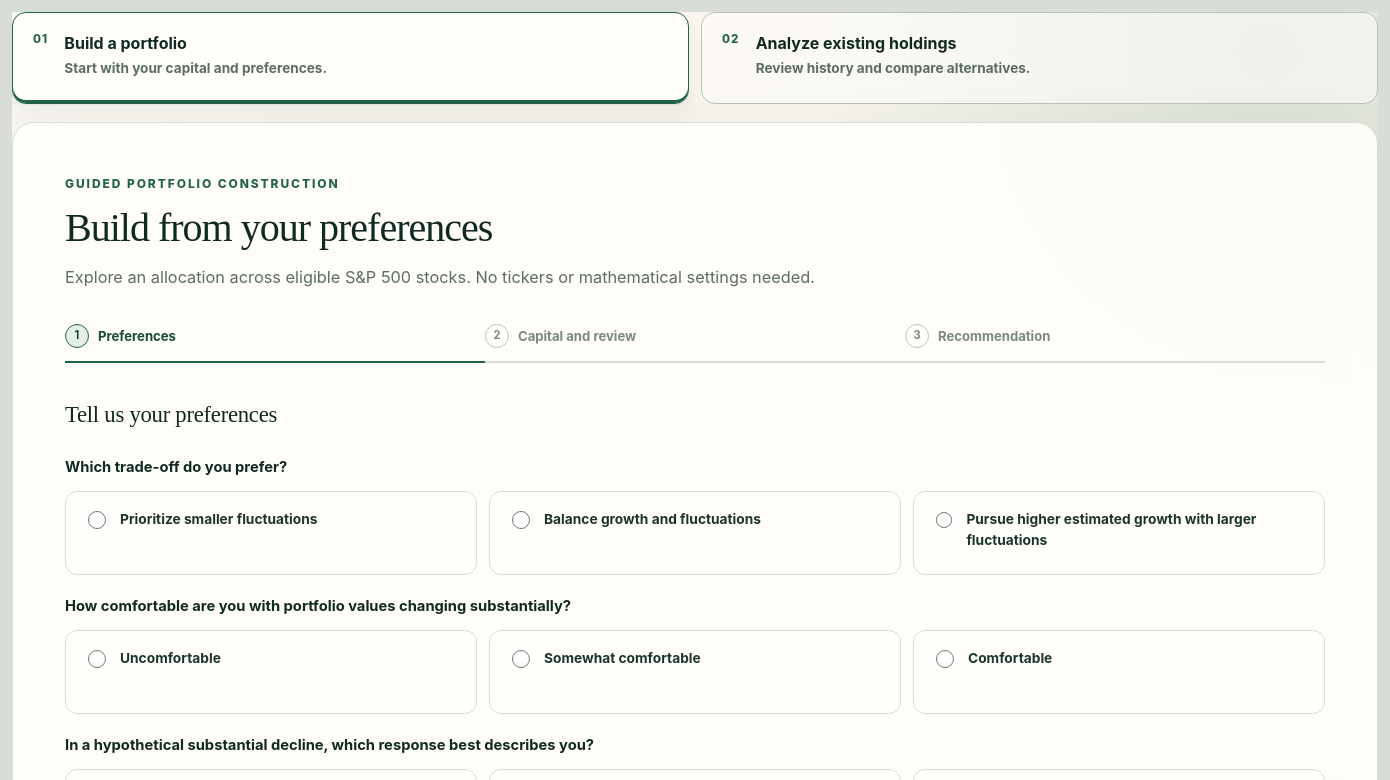
it: Guided builder › starts with the builder, no preselected answers, and keeps existing analysis accessible
The image size is (1390, 780).
Expected: the list item "1 Preferences" is shown, [65, 324, 485, 363]
Expected: the radio button labelled "Prioritize smaller fluctuations" is not checked, [88, 511, 106, 529]
Step 1. Click the button "Analyze existing holdings" → (856, 43), box [701, 12, 1378, 104]
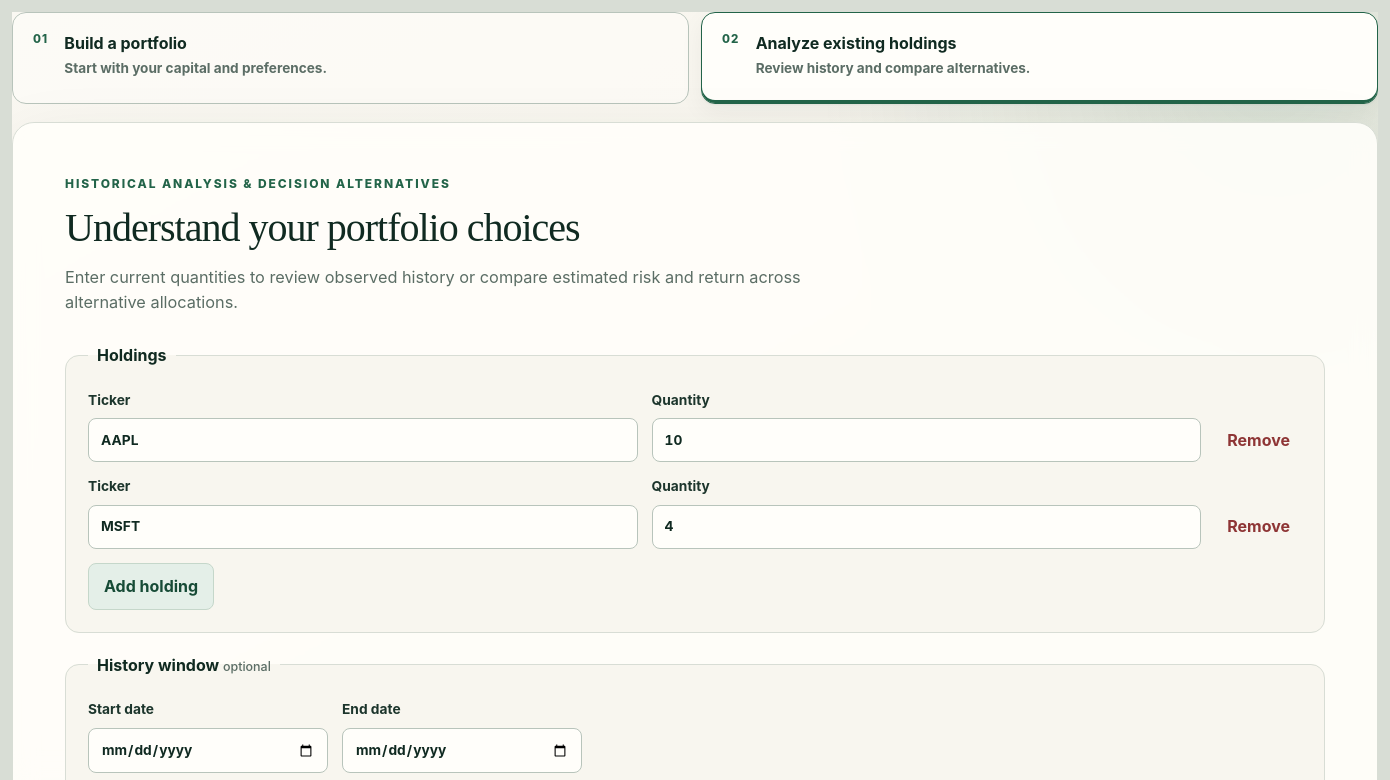
Expected: the field named "Ticker 1" is shown, [88, 418, 638, 462]
